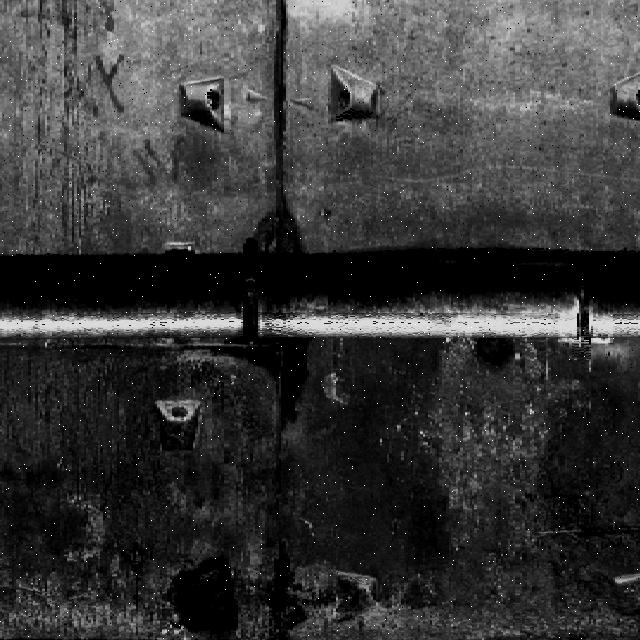leakage: (242, 1, 309, 258), (215, 334, 316, 444)
